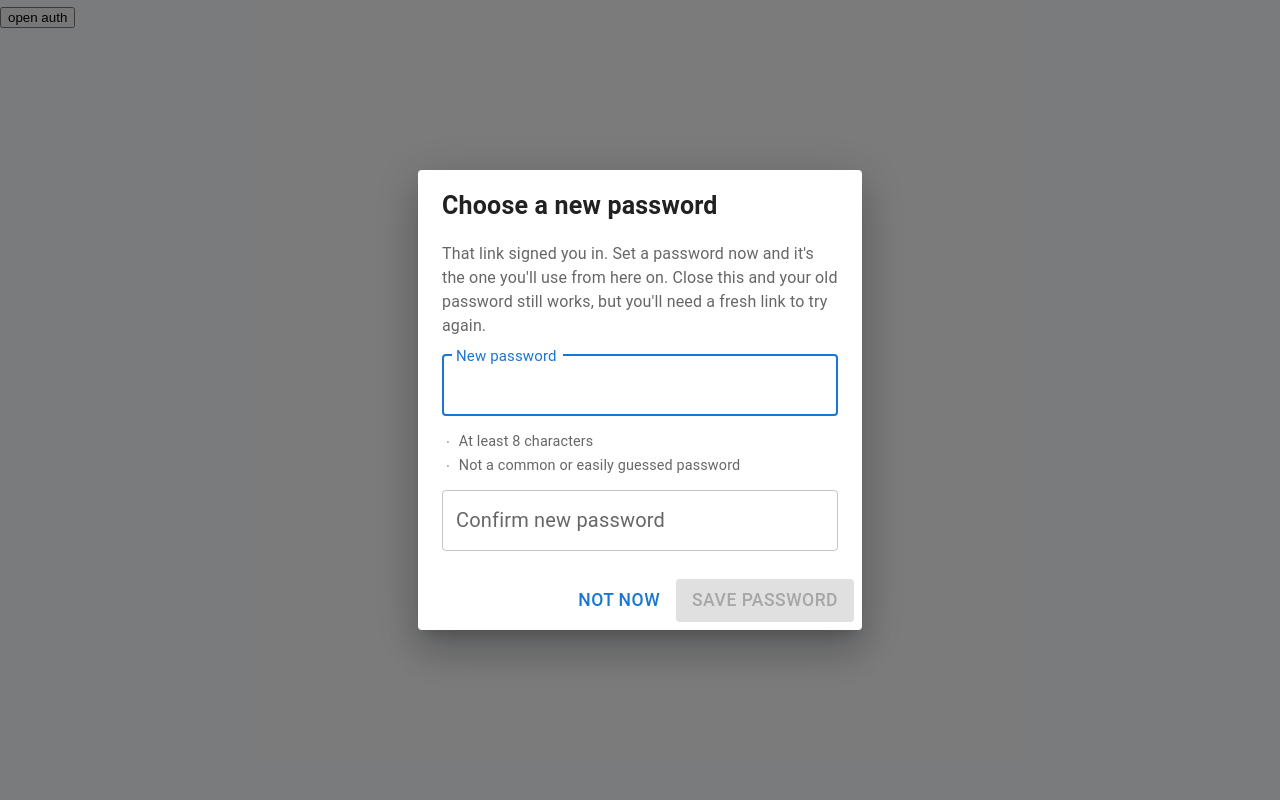
Test case: choosing the new password › shows the requirements as they type
The width and height of the screenshot is (1280, 800).
Check: the heading "Choose a new password" is shown, box [442,191,718,220]
Check: the list named "Password requirements" is shown, box [446,432,740,475]
Step 1. Type "Password1!" into the password field labelled "New password" → (640, 385), box [442,354,838,416]
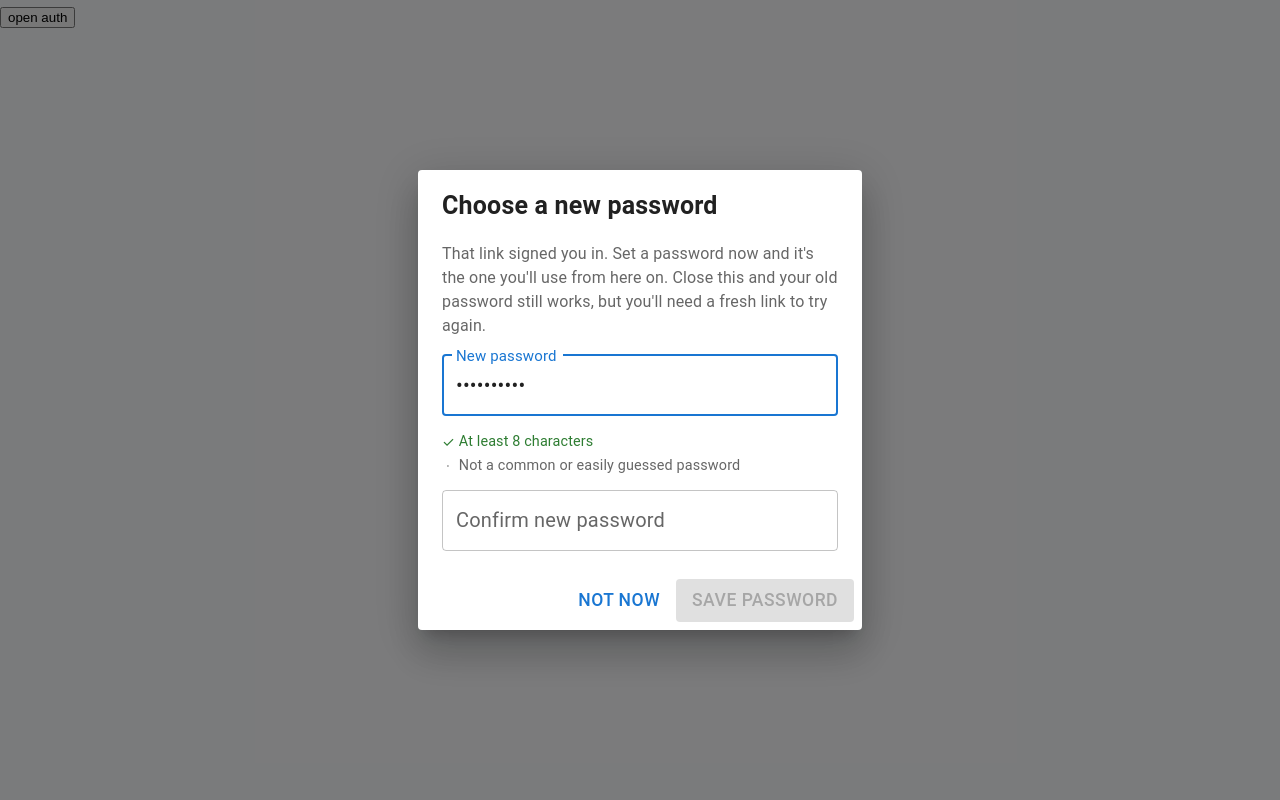
Step 2. Type "Password1!" into the password field labelled "Confirm new password" → (640, 520), box [442,490,838,551]
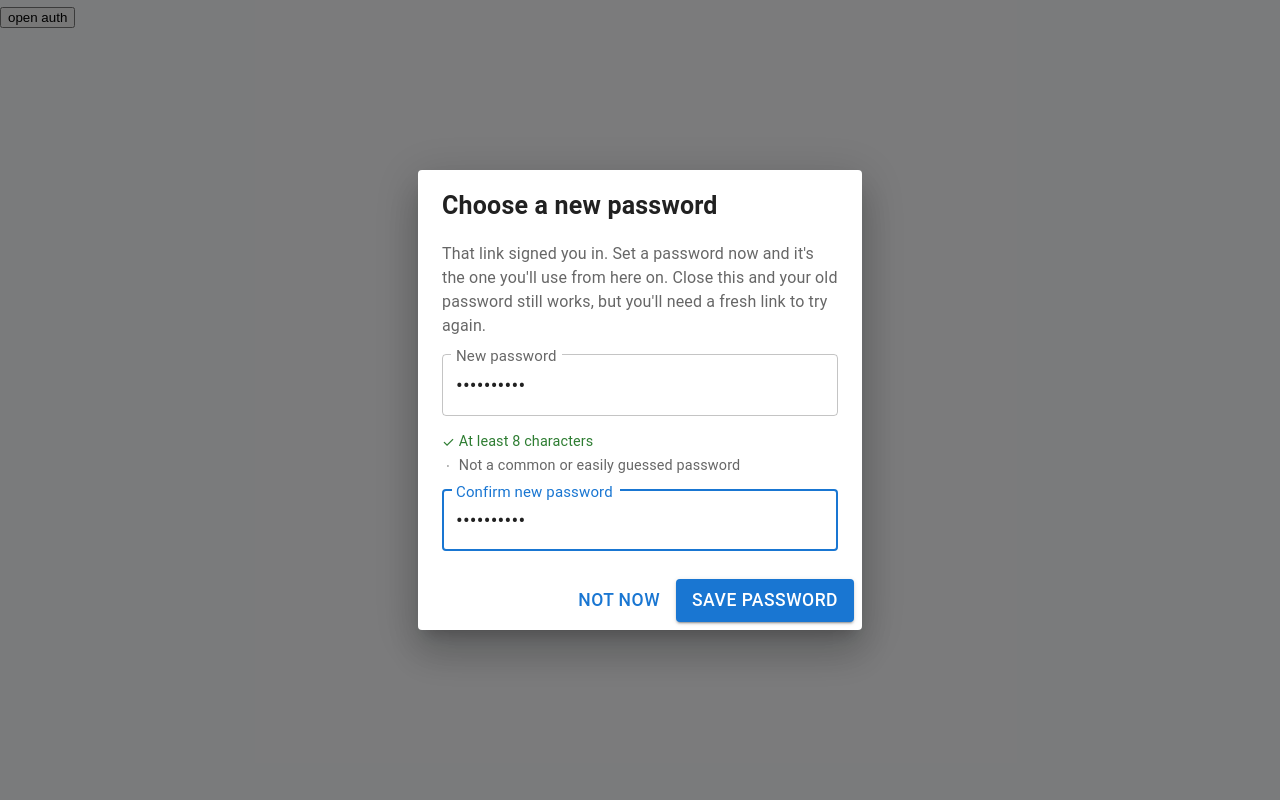
Step 3. Click the button "Save password" → (765, 601), box [676,579,854,622]
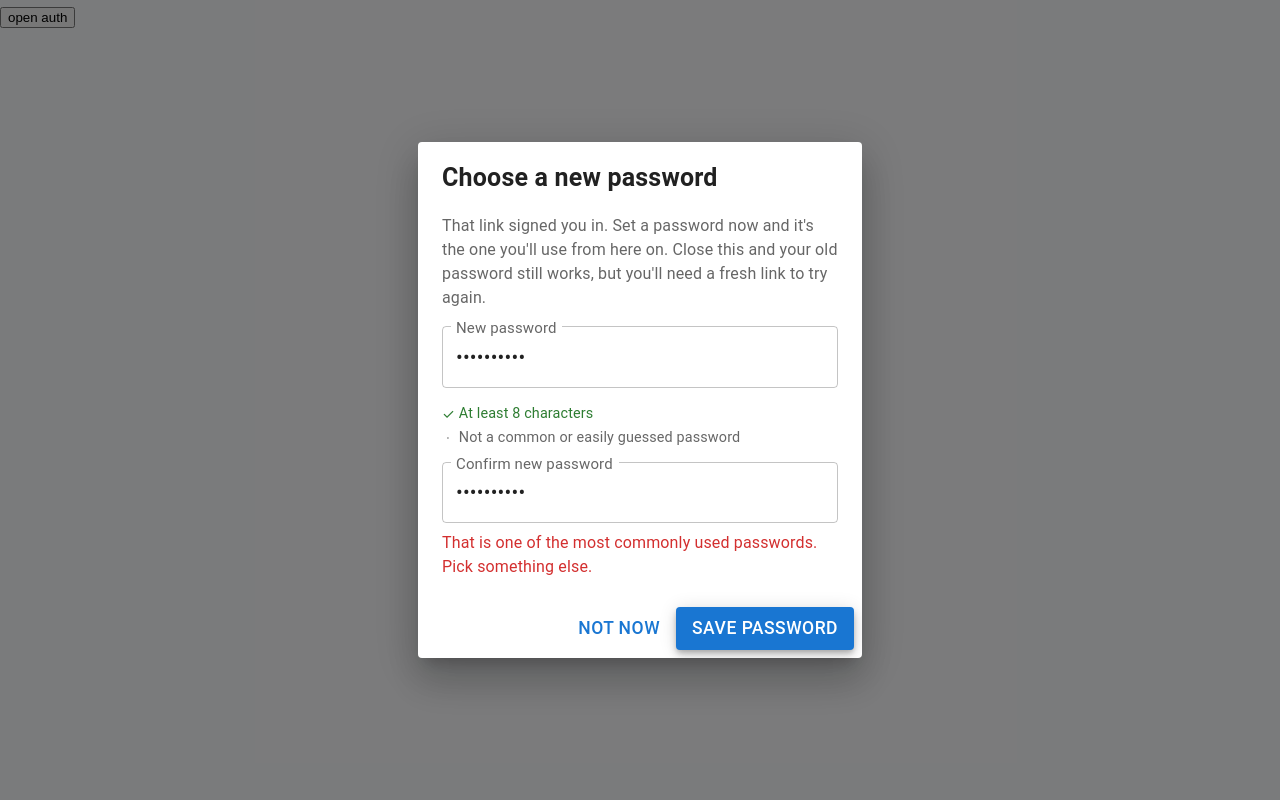
Check: the text "commonly used" is shown, box [442,533,817,576]
